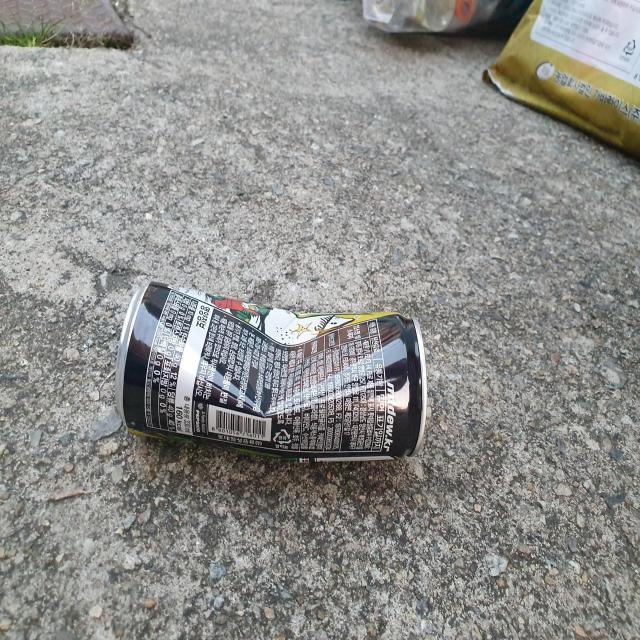can: (115, 282, 427, 462)
